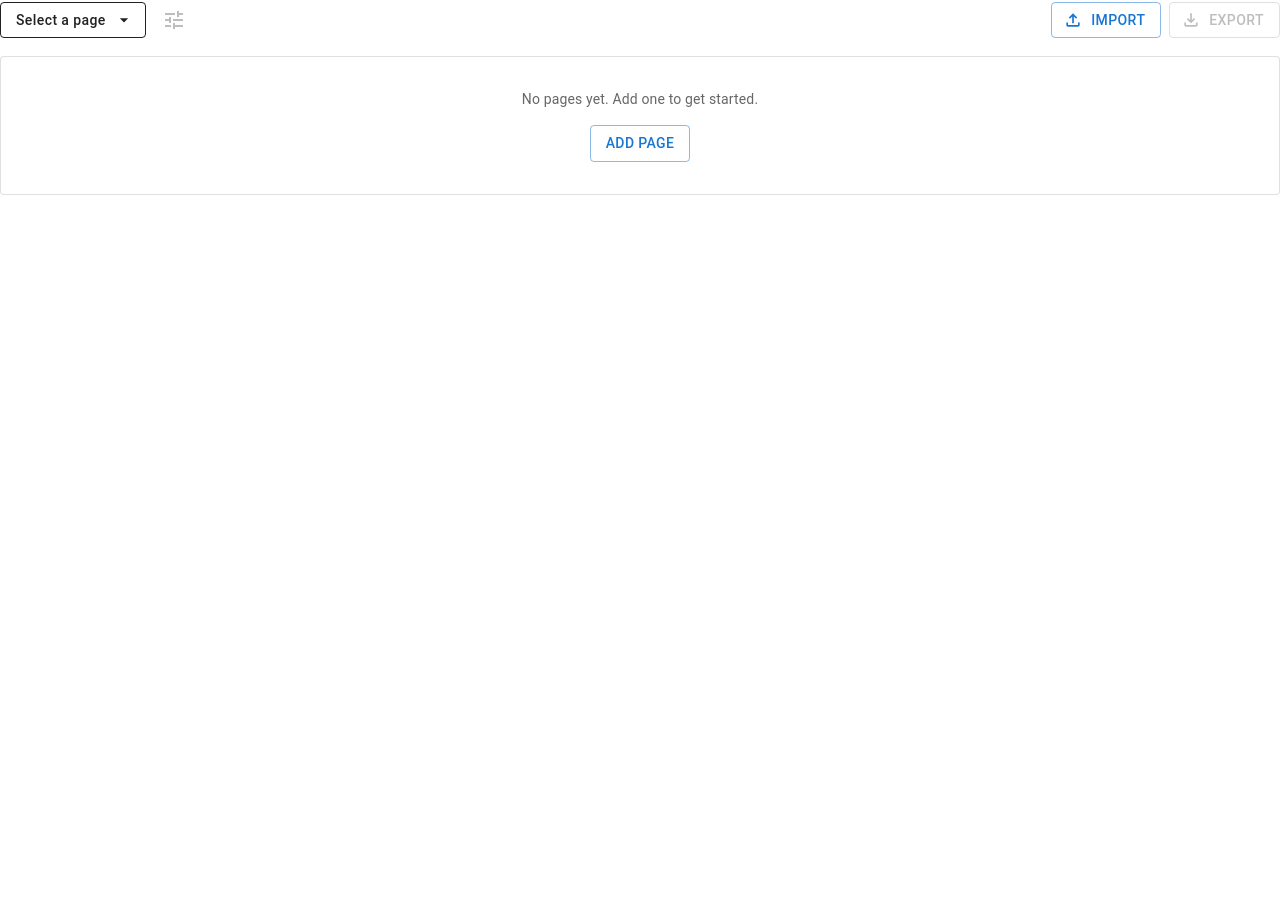
it: PagesEditor › opens a section design panel below the section from its edit control
What coordinates should you click on to do the following:
click the button "Add page"
I would click on:
 (640, 143)
Its box is [590, 125, 690, 162].
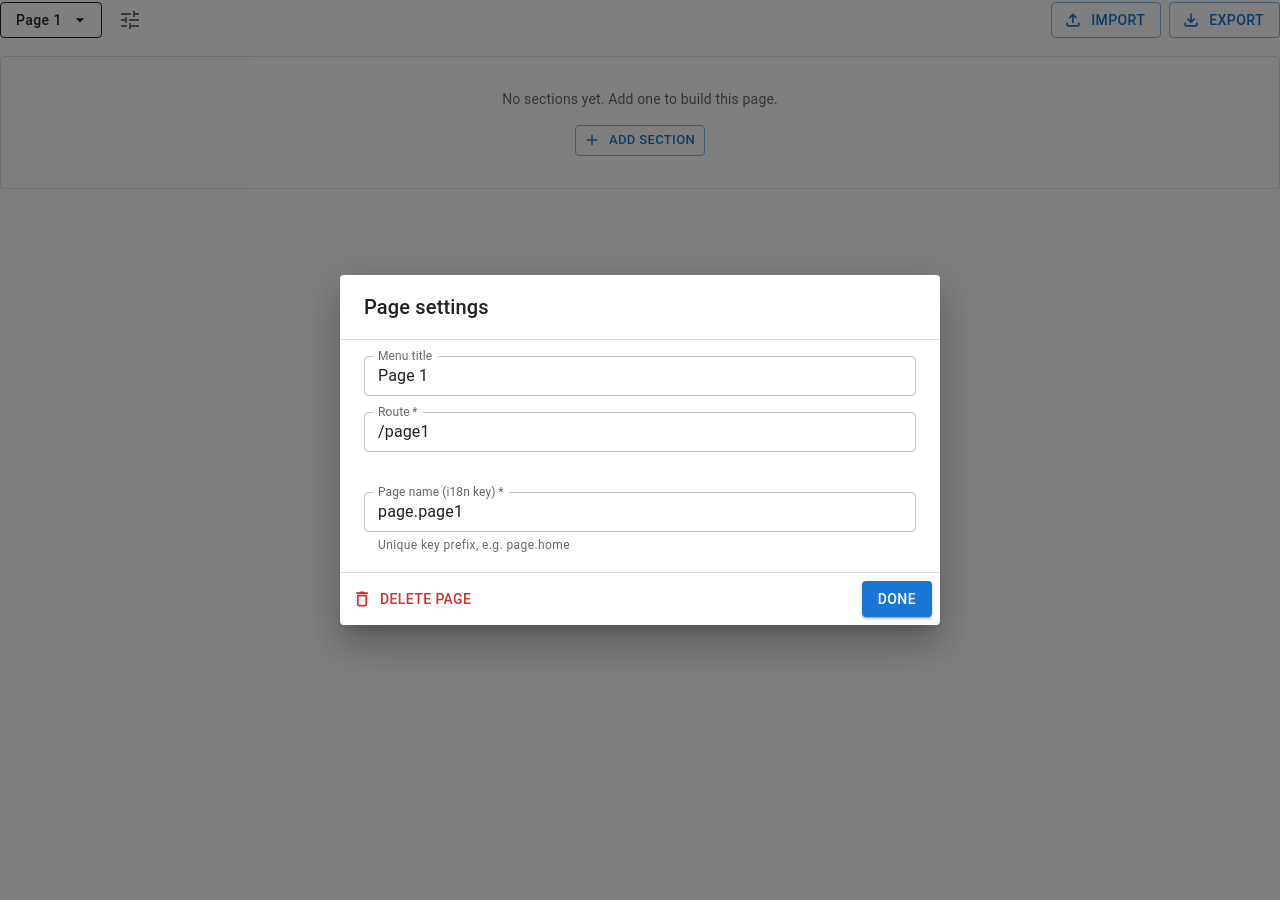
What coordinates should you click on to do the following:
click the button "Done"
I would click on:
 (897, 599)
Its box is [862, 581, 932, 617].
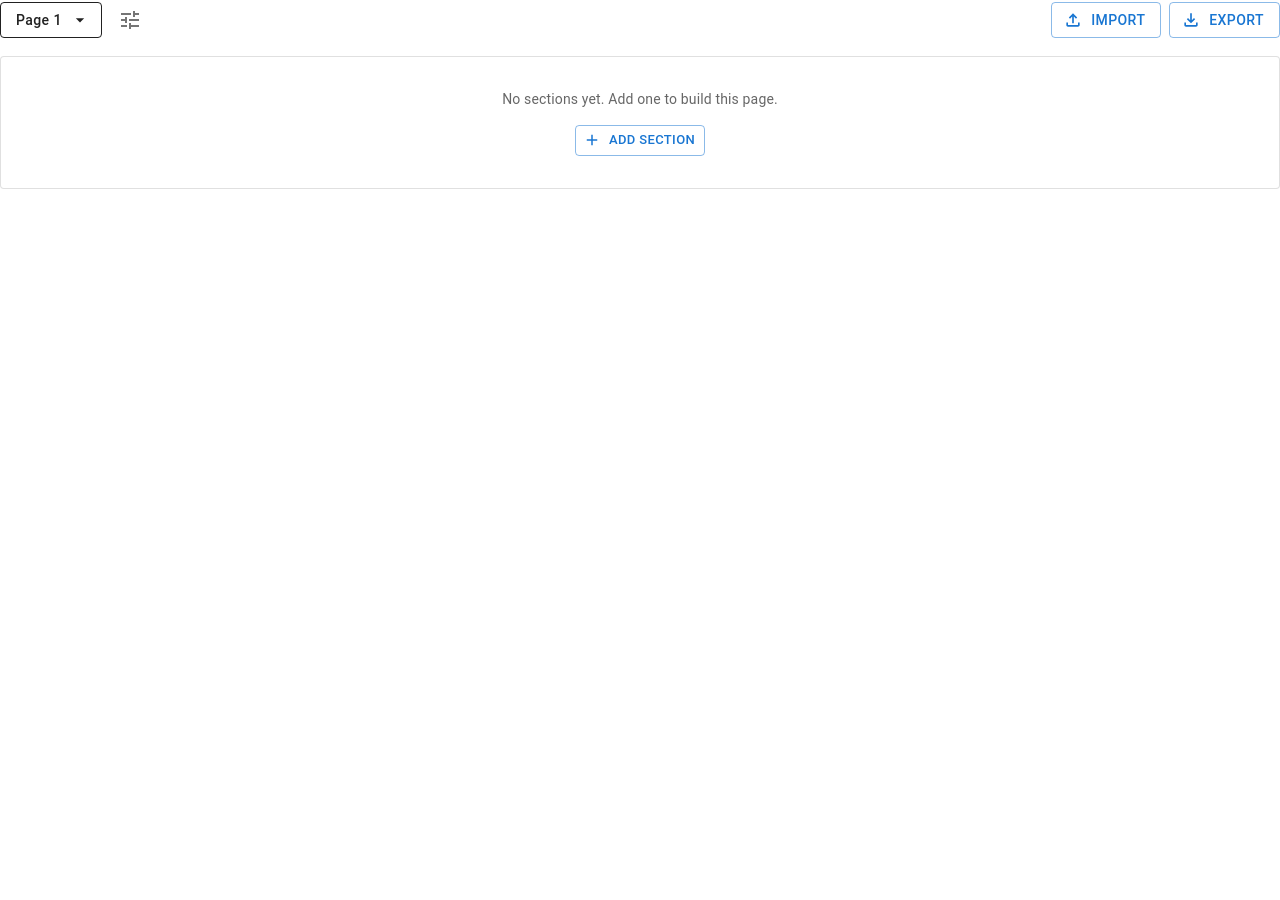
What coordinates should you click on to do the following:
click the button "Add section"
I would click on:
 (640, 140)
Its box is [575, 125, 705, 156].
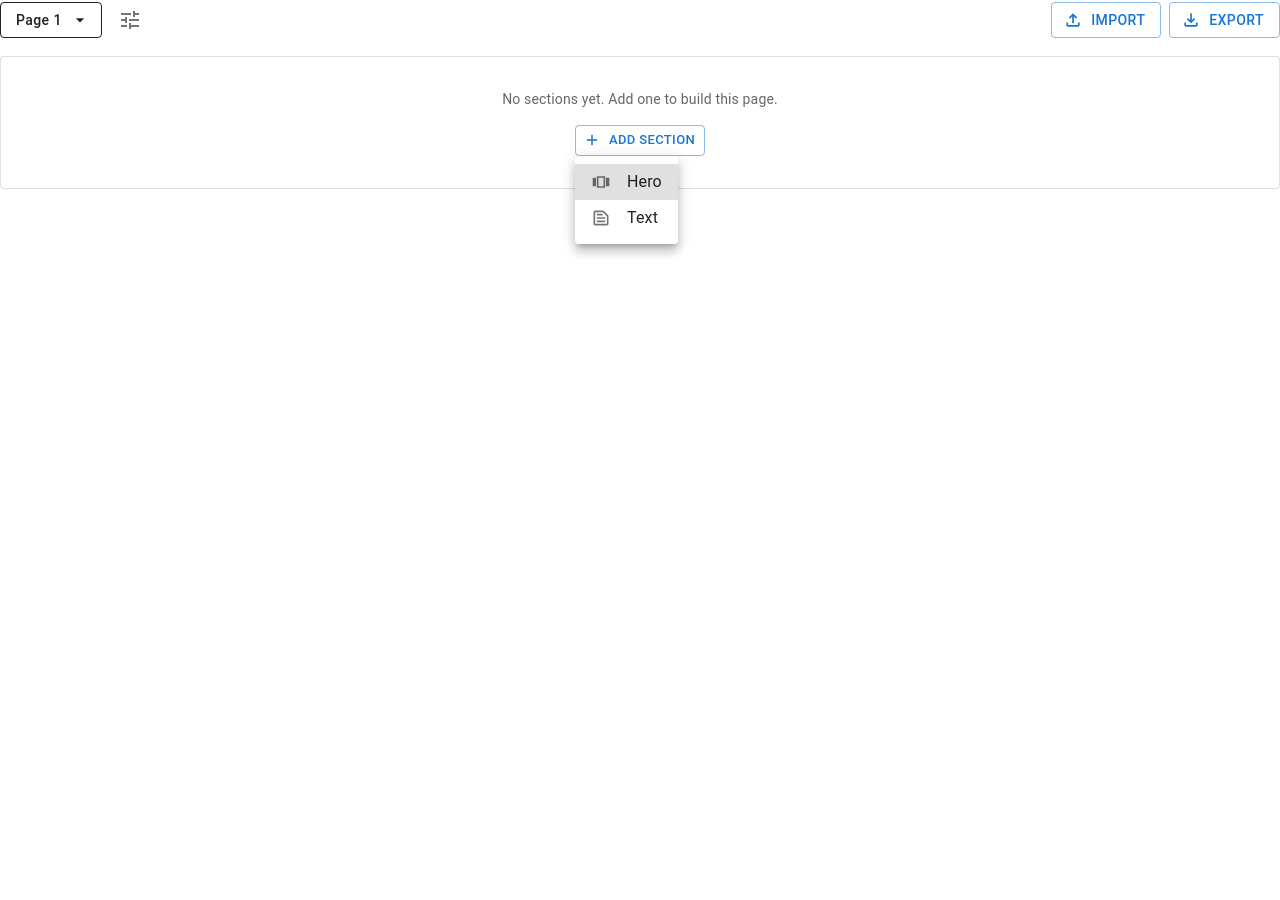
What coordinates should you click on to do the following:
click the menu item "Hero"
I would click on:
 (626, 182)
Its box is [575, 164, 678, 200].
(page scrolled)
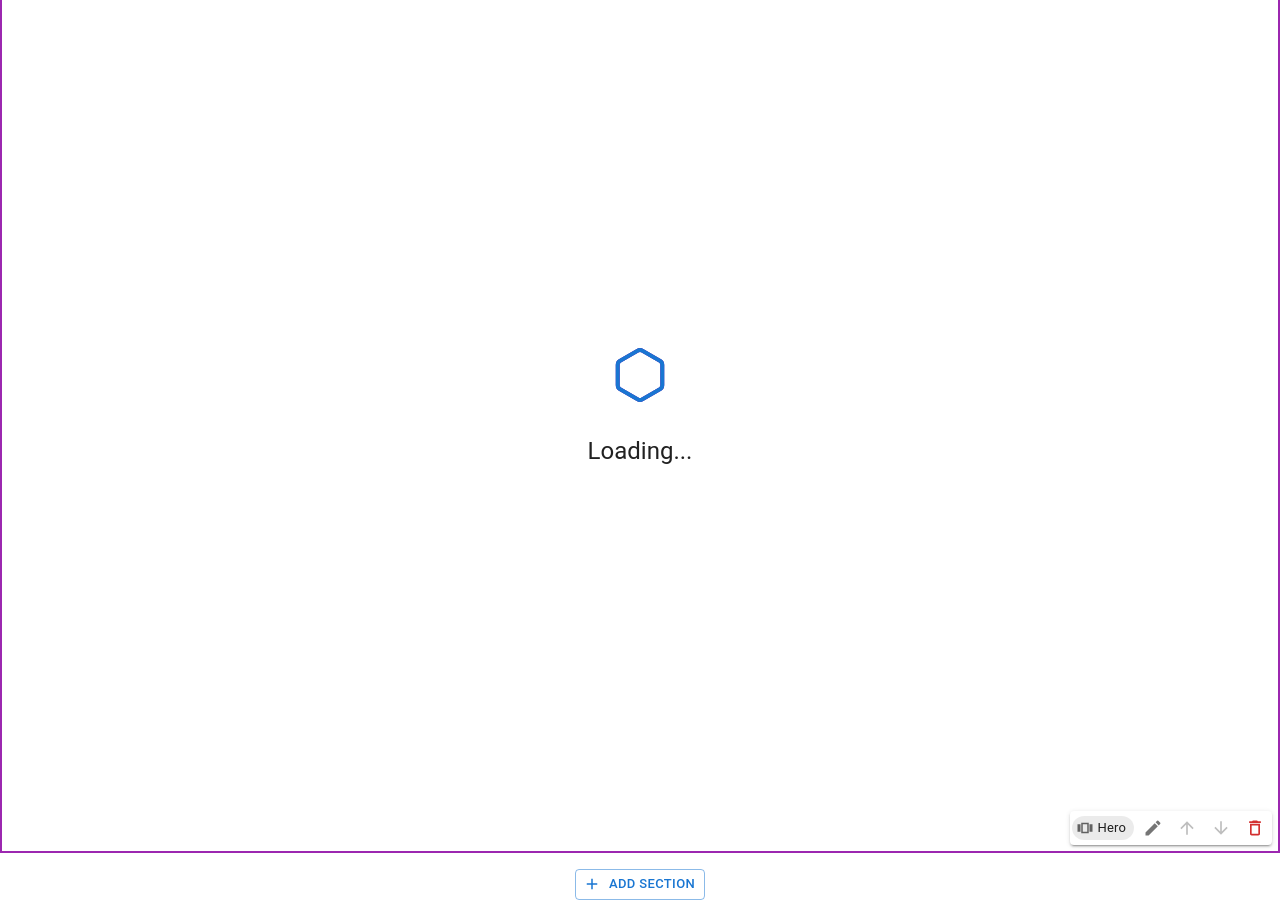
Expected: the field labelled "Layout" is not shown
What coordinates should you click on to do the following:
click the button named "edit section"
I would click on:
 (1153, 828)
Its box is [1138, 813, 1168, 843].
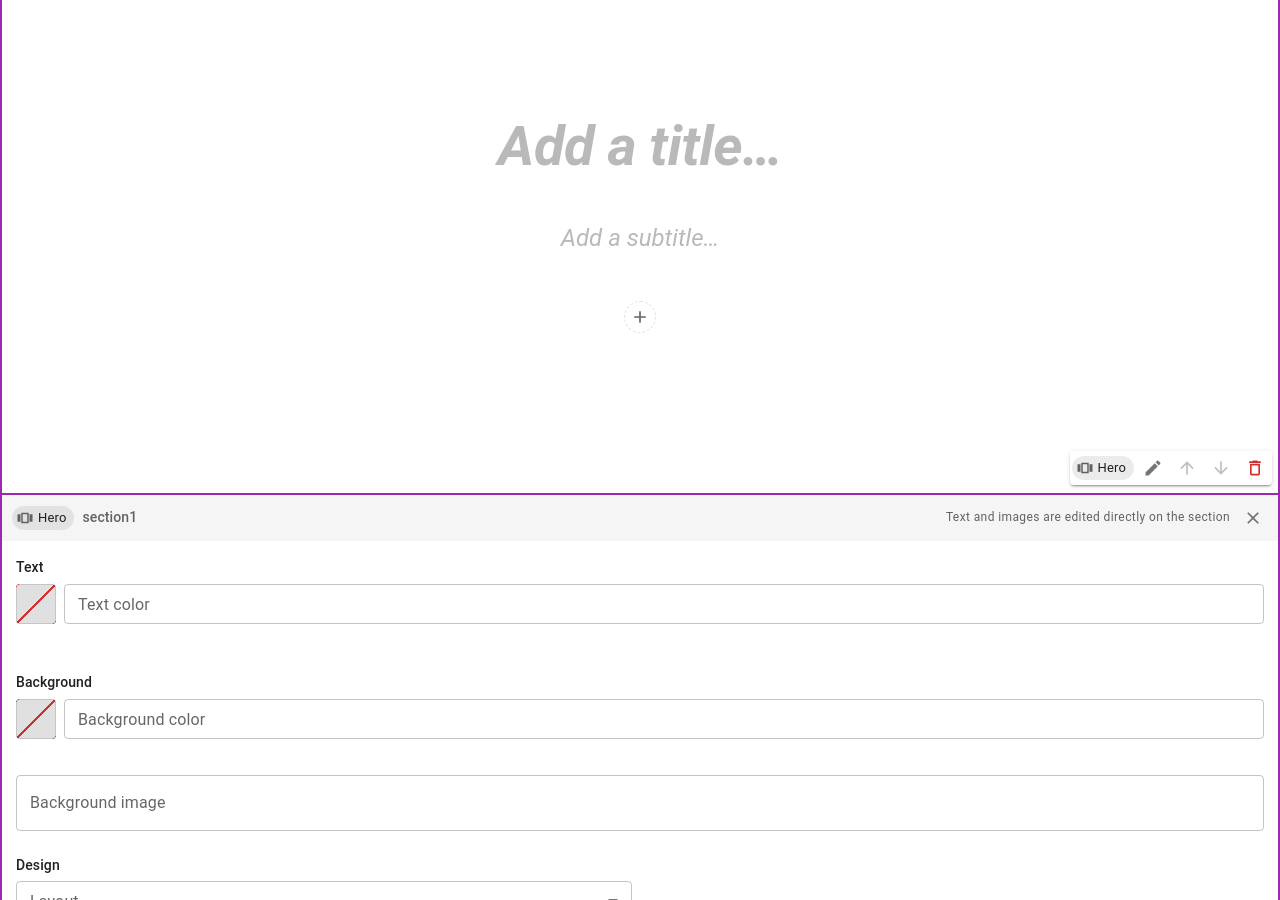
Now the text "Text and images are edited directly on the section" is shown, box [946, 508, 1230, 528]
